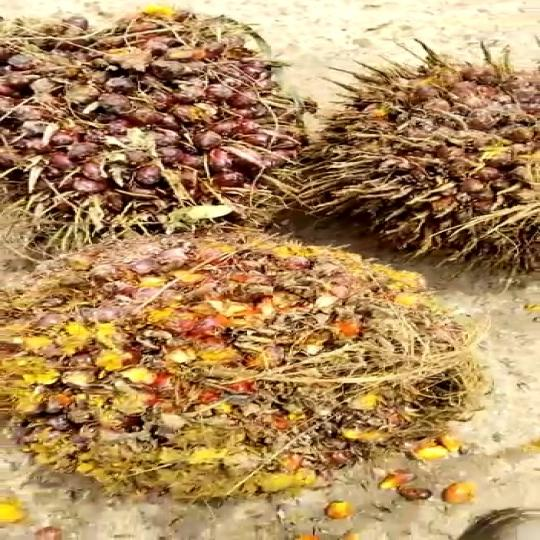masak: (0, 223, 485, 510), (0, 14, 337, 239), (304, 45, 540, 279)
